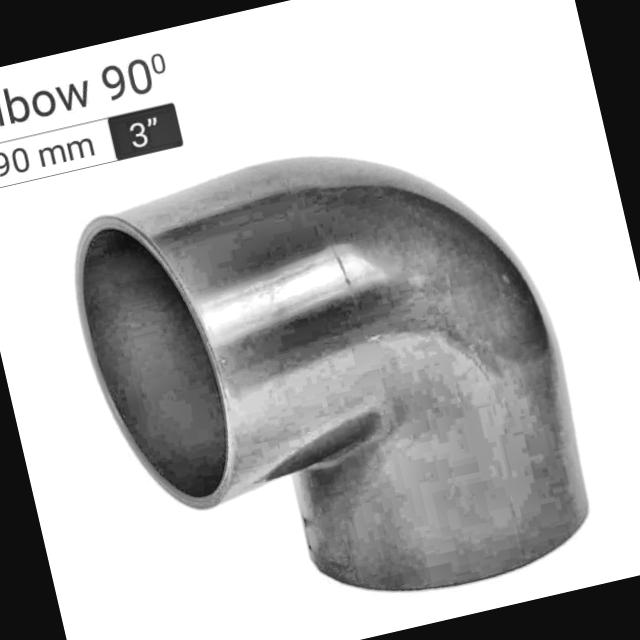ELBOW90: (70, 154, 592, 593)
